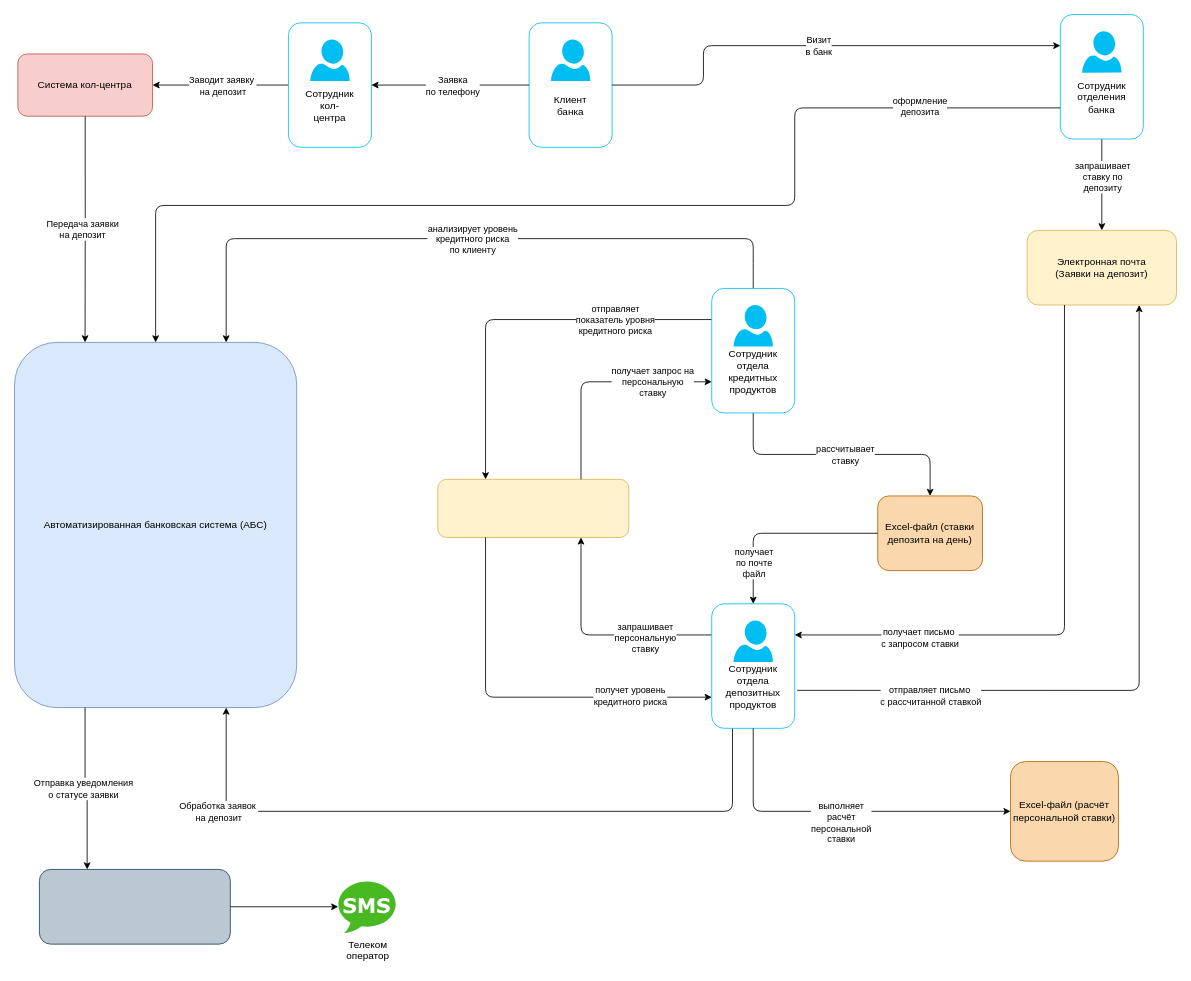
Image size: 1191x981. Some labels were removed from this diagram. The shapes that lost their labels are listed below. From the top down, each one's box as (x1, y1, x2, y2) in pixels, then its label:
(437, 478, 629, 537): Электронная почта (заявка на персональную ставку)
(39, 869, 230, 944): СМС-шлюз телеком оператора
